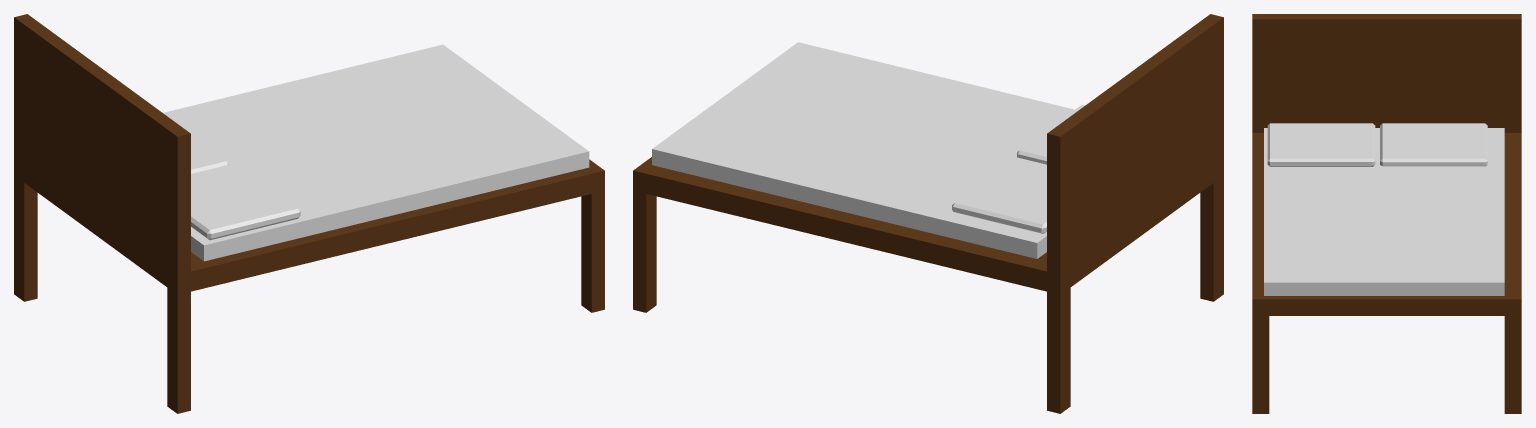
File: bed.fbx
3 renders of one model, left to right at view 1: azimuth 30°, elevation 25°; view 2: azimuth 150°, elevation 25°; view 3: azimuth 270°, elevation 25°, orthographic. The views are drawn at different scales.
Parts seen in each view (by area): view 1: Cube, Cube.001, Cube.002, Cube.003; view 2: Cube, Cube.001, Cube.003, Cube.002; view 3: Cube, Cube.001, Cube.002, Cube.003.
Boxes of the visible parts, left/top/right/bottom form: Cube: left=14, top=14, right=604, bottom=413; Cube.001: left=163, top=44, right=589, bottom=261; Cube.002: left=191, top=163, right=300, bottom=240; Cube.003: left=191, top=135, right=228, bottom=173; Cube: left=633, top=14, right=1223, bottom=413; Cube.001: left=652, top=42, right=1074, bottom=258; Cube.003: left=952, top=157, right=1046, bottom=233; Cube.002: left=1017, top=105, right=1084, bottom=164; Cube: left=1252, top=14, right=1521, bottom=413; Cube.001: left=1264, top=128, right=1504, bottom=295; Cube.002: left=1267, top=123, right=1375, bottom=166; Cube.003: left=1380, top=123, right=1487, bottom=166.
Size of the model in its own units: 1316 by 816 by 871.
